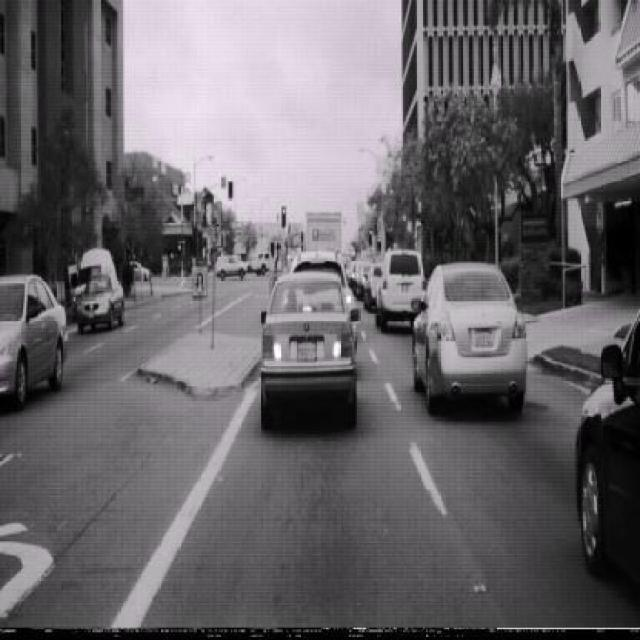noLeftTurn: (209, 200, 221, 247)
